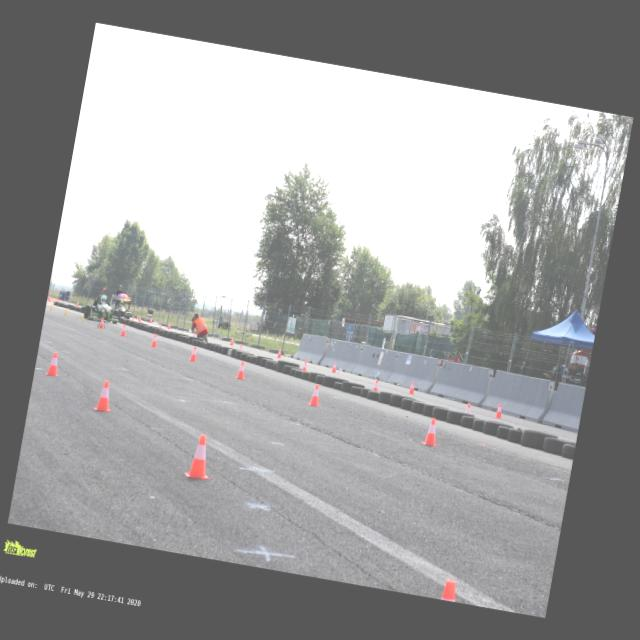orange_cone: (184, 432, 216, 481), (430, 577, 465, 602), (93, 378, 116, 412), (420, 416, 442, 447), (45, 351, 62, 377), (306, 383, 324, 407), (235, 360, 248, 380), (461, 402, 474, 422), (188, 345, 199, 362), (494, 402, 504, 418), (370, 378, 380, 392), (406, 381, 416, 394), (150, 333, 158, 347), (120, 324, 128, 336), (301, 360, 309, 372), (98, 317, 106, 329), (330, 361, 337, 373), (190, 331, 197, 340), (276, 348, 282, 358), (228, 336, 234, 346), (238, 343, 242, 350), (167, 322, 170, 330), (138, 316, 142, 322), (46, 295, 50, 300), (48, 296, 51, 302), (131, 316, 134, 321), (158, 322, 161, 327), (149, 318, 152, 322), (54, 298, 56, 304), (55, 300, 58, 304), (76, 301, 78, 306), (58, 299, 59, 304)
unknown_cone: (80, 314, 86, 322), (63, 308, 67, 316), (48, 304, 52, 310), (52, 299, 54, 303), (52, 300, 54, 304), (136, 315, 138, 319)
